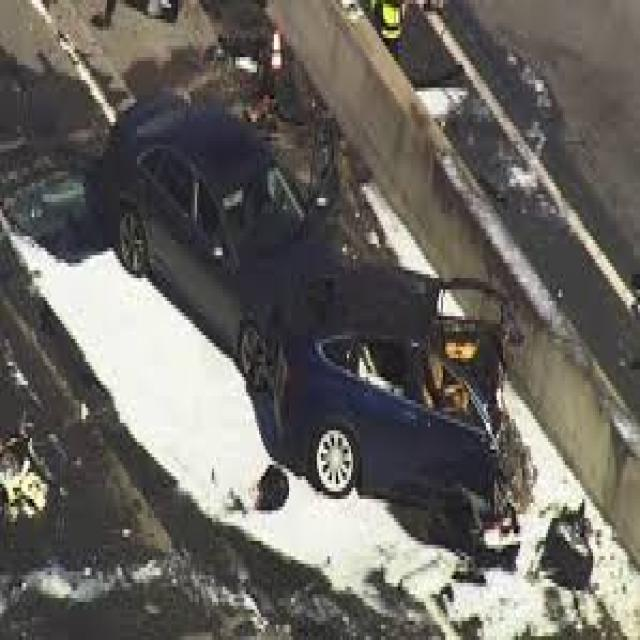severe: (79, 76, 513, 519)
